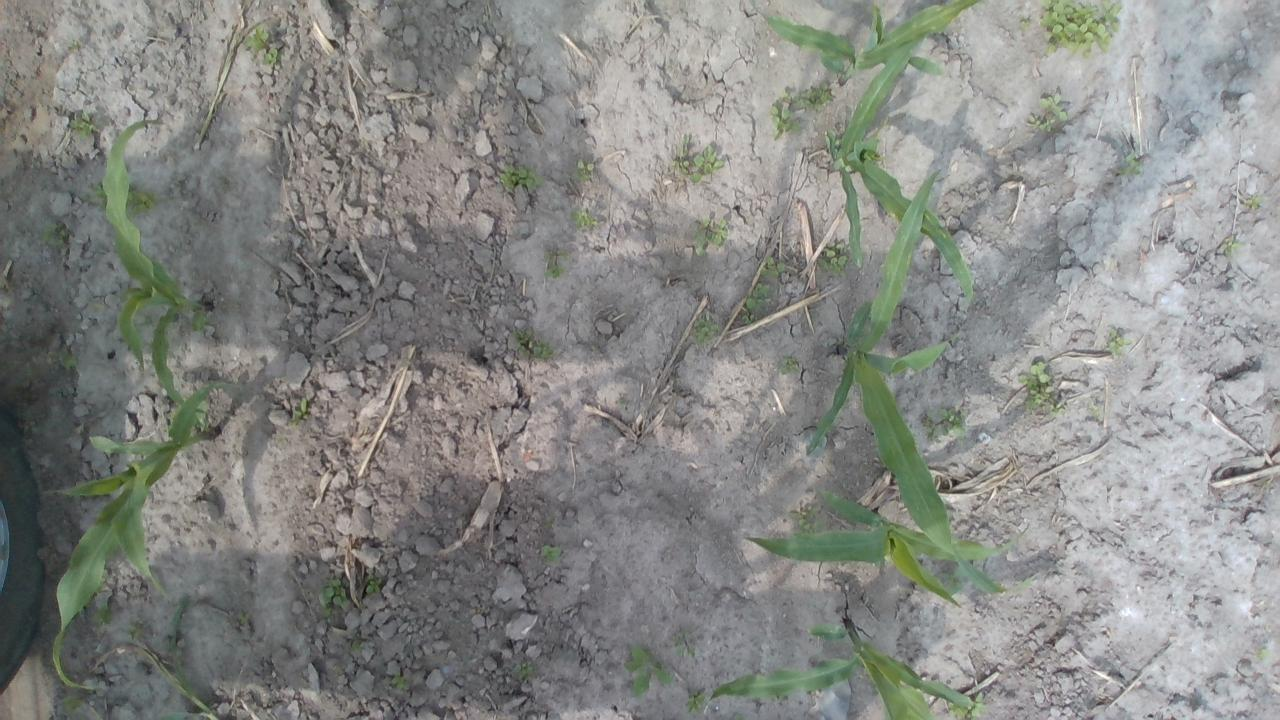Maize: (806, 168, 1040, 598), (41, 380, 248, 690), (824, 33, 975, 306), (101, 118, 221, 432), (744, 486, 1032, 613), (707, 615, 973, 720), (749, 0, 980, 88)
Weeds: (1038, 0, 1124, 60), (1017, 361, 1067, 418), (669, 136, 724, 184), (622, 646, 674, 696), (89, 183, 154, 214), (1025, 92, 1068, 133), (690, 216, 729, 257), (922, 409, 966, 444), (779, 82, 836, 109), (242, 26, 279, 64), (510, 329, 554, 360), (500, 164, 542, 194), (769, 105, 803, 140), (788, 506, 826, 536), (816, 243, 848, 274), (948, 693, 986, 719), (40, 221, 70, 250), (320, 578, 348, 608), (1114, 148, 1142, 176), (68, 110, 98, 136), (689, 318, 721, 342), (1108, 328, 1134, 357), (46, 350, 78, 373), (570, 159, 596, 186), (746, 282, 770, 310), (56, 694, 86, 716), (758, 257, 788, 279), (673, 630, 697, 657), (291, 396, 311, 428), (545, 250, 566, 280), (684, 690, 709, 714), (572, 208, 598, 228), (1219, 236, 1241, 259), (92, 604, 114, 627), (128, 618, 146, 642), (779, 356, 800, 376), (514, 660, 534, 680), (540, 546, 562, 564), (364, 574, 382, 595), (391, 669, 406, 692), (741, 311, 760, 328), (1246, 194, 1266, 210), (1089, 401, 1102, 420), (236, 613, 252, 628), (539, 517, 554, 531), (1019, 16, 1033, 31), (350, 640, 364, 654), (1256, 648, 1268, 662), (68, 40, 80, 51), (322, 607, 334, 617), (617, 397, 628, 407), (734, 713, 744, 720)
